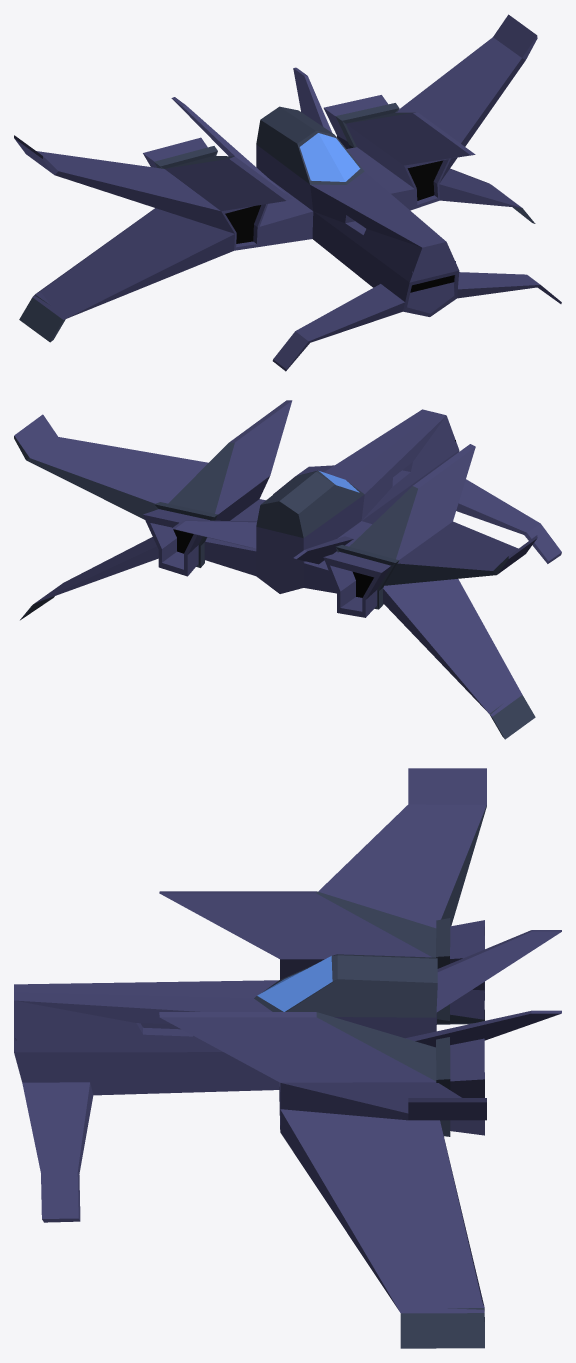
The model's file is AstralValkyrie.glb.
3 renders of one model, top to bottom at view 1: azimuth 30°, elevation 25°; view 2: azimuth 150°, elevation 25°; view 3: azimuth 270°, elevation 25°, orthographic. The views are drawn at different scales.
Visible parts, largest first — view 1: AstralValkyrie; view 2: AstralValkyrie; view 3: AstralValkyrie.
Boxes of the visible parts, box(x1,y1,x2,y2) form: AstralValkyrie: box(14, 14, 561, 371); AstralValkyrie: box(14, 400, 561, 739); AstralValkyrie: box(14, 768, 561, 1348).
Bounding box in the file's own units: 20.86 × 7.48 × 14.64.
Materials: 1 (1 with a texture image).
